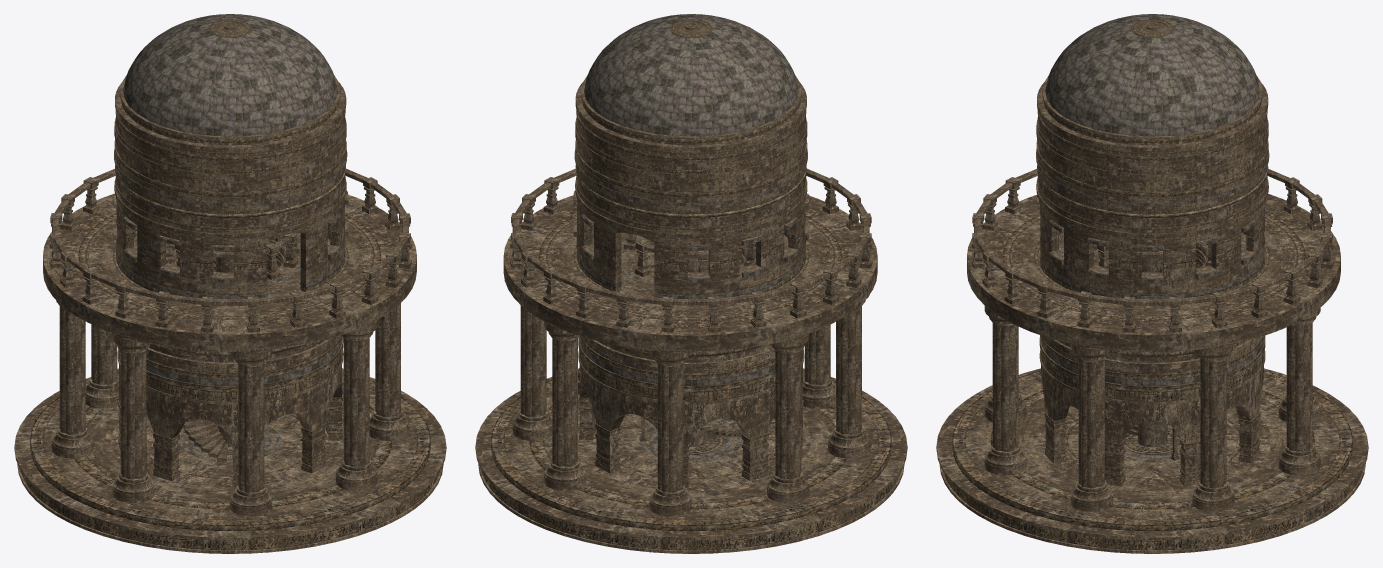
The model's file is materials_5_building_10.fbx.
The picture shows the model from 3 angles, left to right: view 1: azimuth 30°, elevation 25°; view 2: azimuth 150°, elevation 25°; view 3: azimuth 270°, elevation 25°; orthographic projection.
Visible parts, largest first — view 1: materials_5_building_10; view 2: materials_5_building_10; view 3: materials_5_building_10.
Part boxes in pixels (<box>): materials_5_building_10: <box>14,14,446,553</box>; materials_5_building_10: <box>475,14,907,553</box>; materials_5_building_10: <box>936,14,1368,553</box>.
Size of the model in its own units: 1492 by 1671 by 1492.
